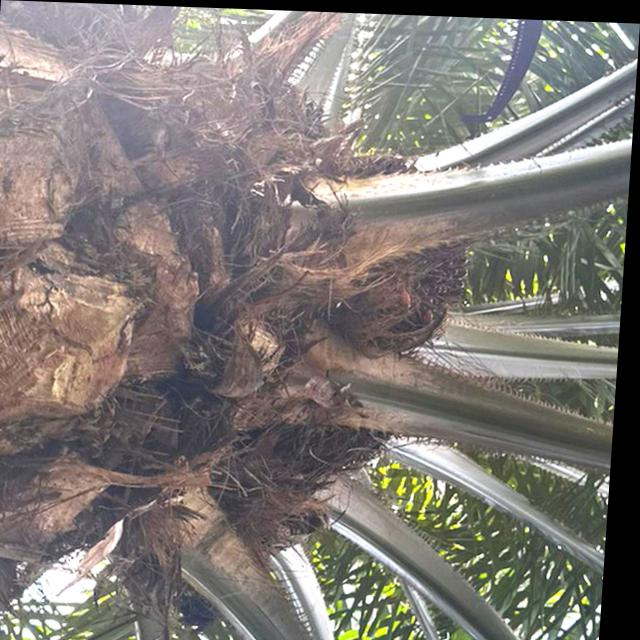ripe: (294, 112, 496, 372)
